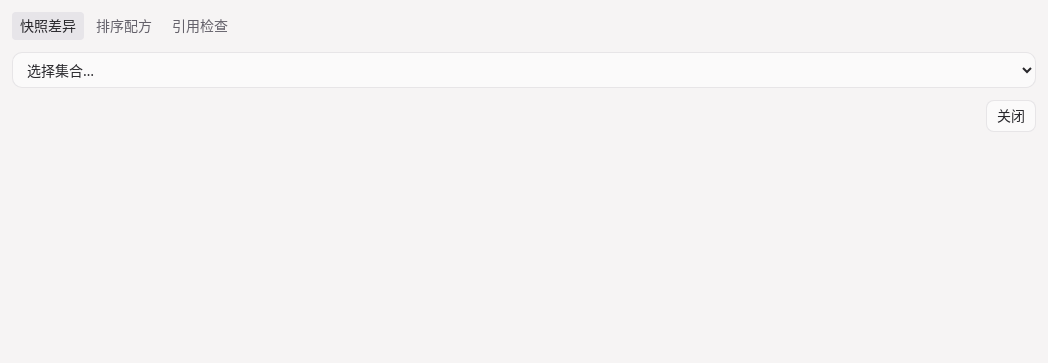
it: New216CollectionOpsPanel › 快照差异：选集合 → 两张快照 diff → 勾选恢复被移除成员
Select "调研集合" in the dropdown named "选择集合" at (524, 70), box [12,52,1036,88]
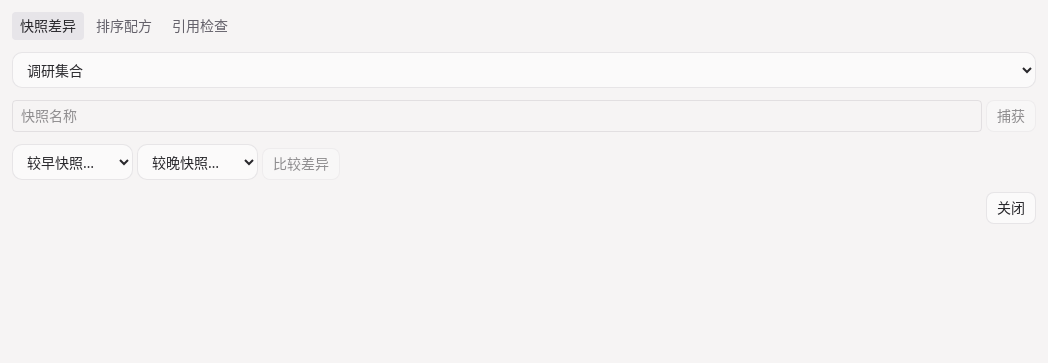
Select "初始（2）" in the dropdown named "较早快照" at (72, 162), box [12,144,133,180]
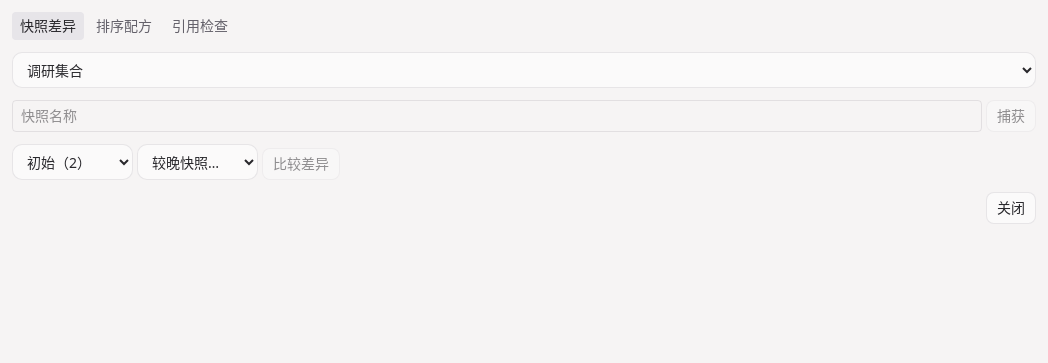
Select "第二轮（2）" in the dropdown named "较晚快照" at (198, 162), box [137,144,258,180]
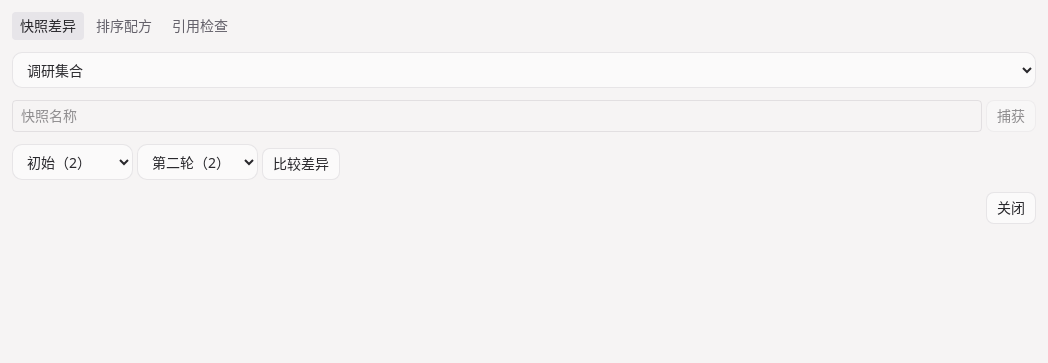
Click the button "比较差异".
click(301, 164)  # box [262,148,340,180]
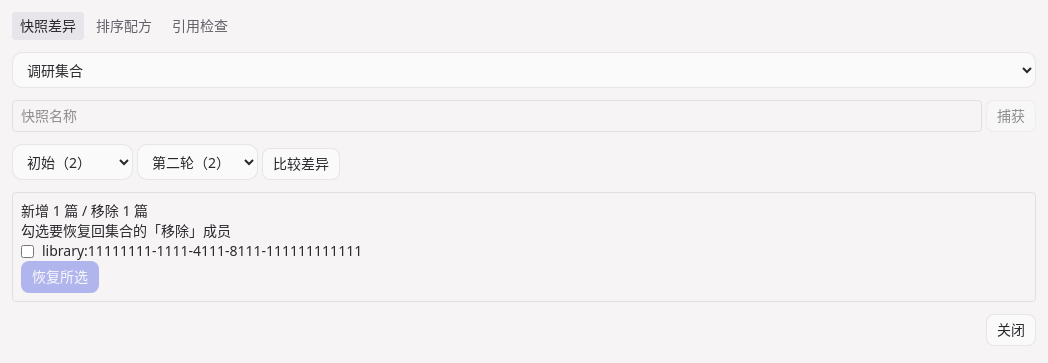
Expected: the element with test id "new216-diff" shows "新增 1 篇 / 移除 1 篇", [12,192,1036,302]
Click the checkbox.
click(28, 251)  # box [21,244,34,258]
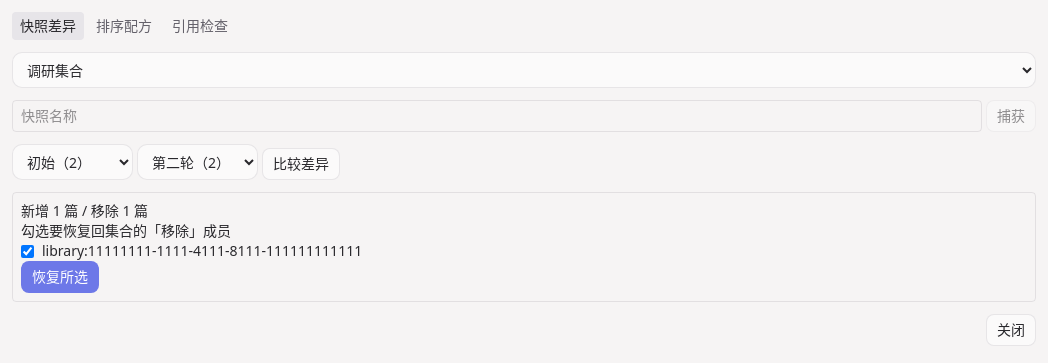
Click the button "恢复所选".
click(60, 277)  # box [21,261,99,293]
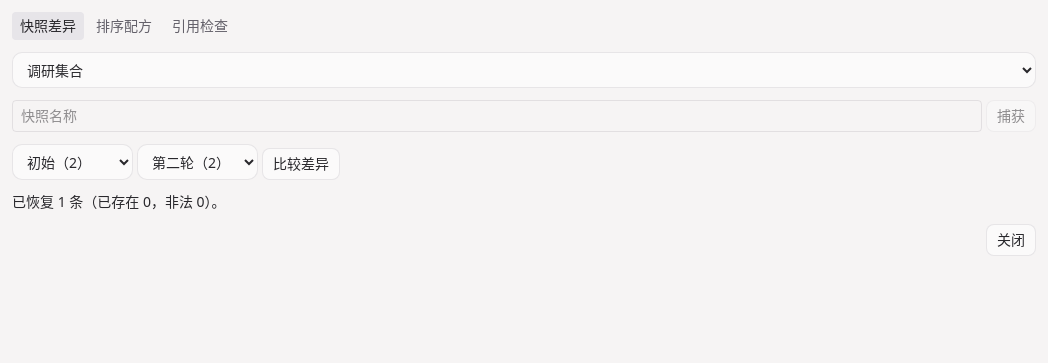
Expected: the message with test id "new216-restore-result" shows "已恢复 1 条", [12,192,226,211]
